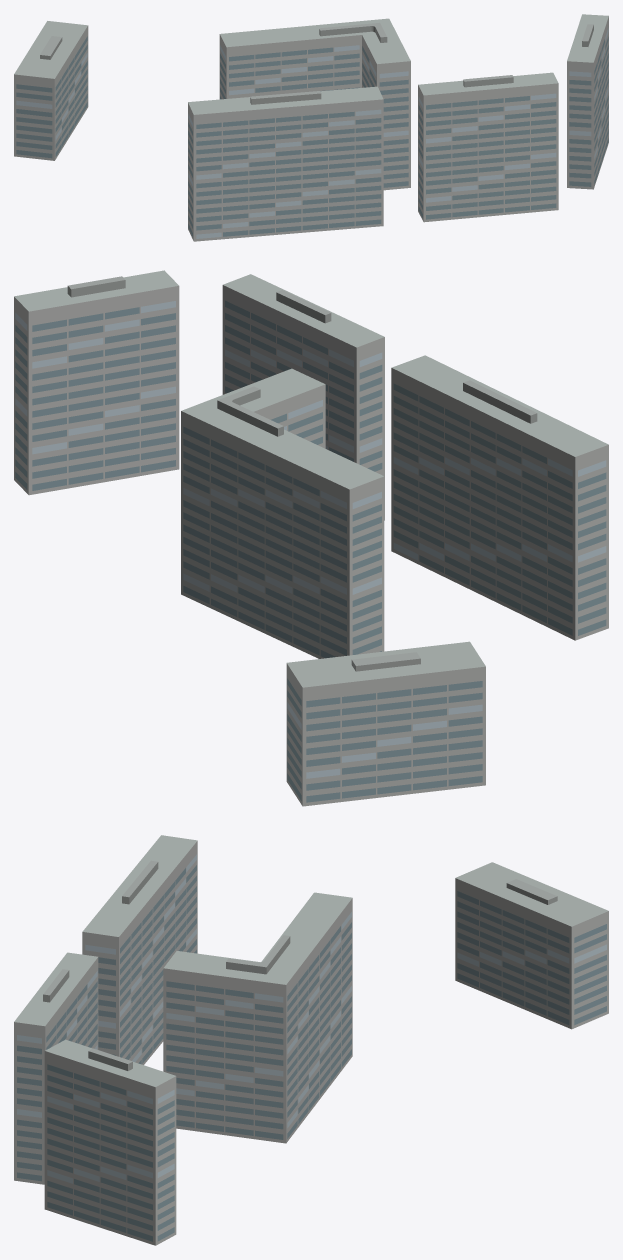
File: apt-a13790714.glb
The picture shows the model from 3 angles, top to bottom: view 1: azimuth 30°, elevation 25°; view 2: azimuth 150°, elevation 25°; view 3: azimuth 270°, elevation 25°; orthographic projection. The views are drawn at different scales.
Visible parts, largest first — view 1: apt-a13790714; view 2: apt-a13790714; view 3: apt-a13790714.
Part boxes in pixels (box(x1,y1,x2,y2)): apt-a13790714: box(14, 14, 608, 241); apt-a13790714: box(14, 270, 608, 806); apt-a13790714: box(14, 835, 608, 1245).
Bounding box in the file's own units: 174 × 47.81 × 156.
